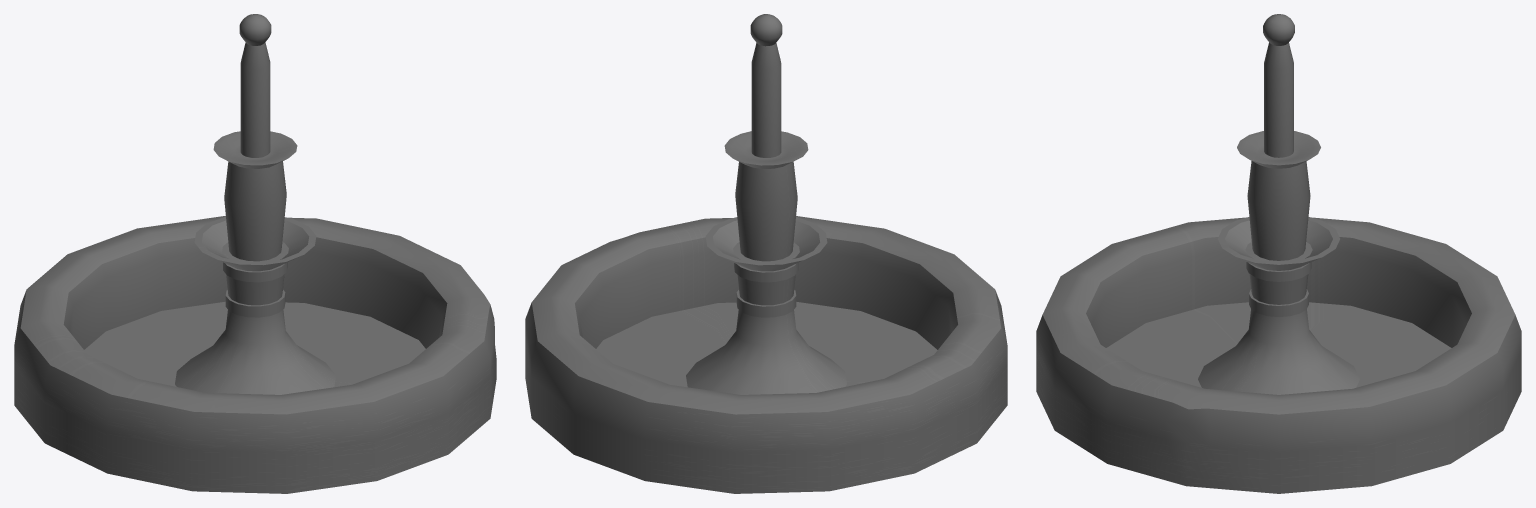
Rendered from FuenteDeAgua 1.fbx.
3 views of the same model, side by side, from view 1: azimuth 30°, elevation 25°; view 2: azimuth 150°, elevation 25°; view 3: azimuth 270°, elevation 25° (orthographic).
Visible parts, largest first — view 1: Cylinder074; view 2: Cylinder074; view 3: Cylinder074.
Part boxes in pixels (left/top/right/bottom): Cylinder074: left=14, top=14, right=496, bottom=493; Cylinder074: left=525, top=14, right=1007, bottom=493; Cylinder074: left=1036, top=14, right=1521, bottom=493.
Bounding box in the file's own units: 845 × 722 × 845.
